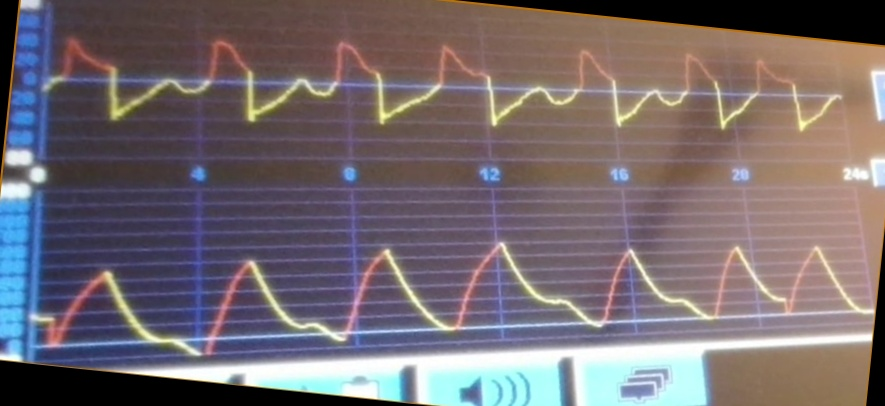Ineffective_effort Flow: (52, 34, 842, 144)
Ineffective_effort Volume: (36, 234, 869, 355)
